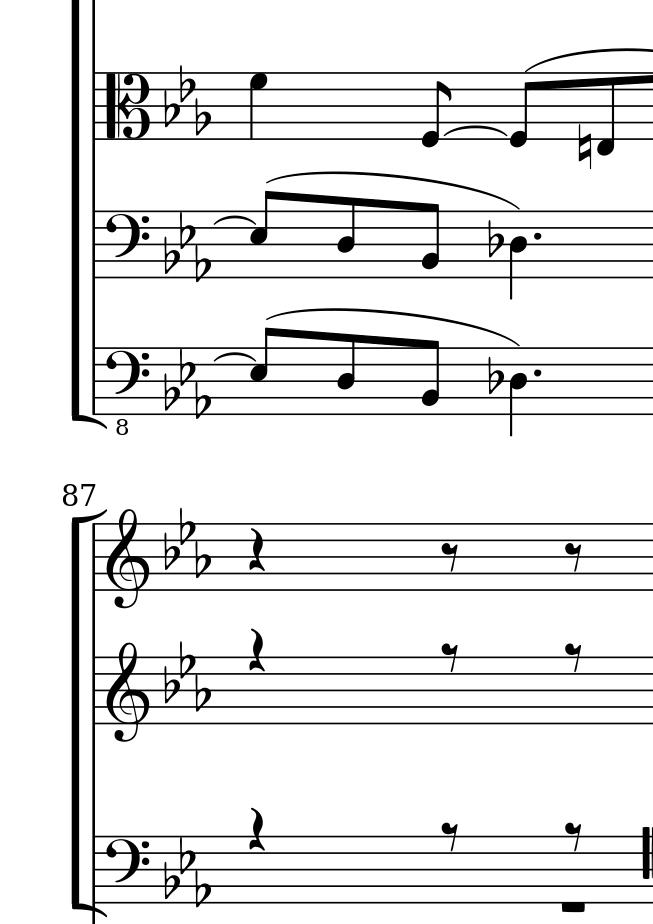4_4: (507, 210, 531, 305), (507, 345, 529, 439)
4_7: (248, 72, 270, 142)
7: (79, 480, 98, 510)
8: (57, 481, 79, 508)
8_-1: (597, 70, 617, 158)
8_0: (422, 70, 454, 147), (508, 69, 536, 151)
8_2: (417, 339, 440, 418), (420, 201, 442, 280)
8_4: (336, 195, 358, 283), (335, 332, 357, 417)
8_5: (249, 326, 280, 416), (249, 189, 280, 279)
Bracke: (68, 509, 107, 919)
Cclef: (101, 71, 157, 141)
E_F: (163, 346, 212, 420), (163, 62, 211, 137), (162, 507, 211, 580), (163, 836, 211, 908), (163, 642, 211, 713), (163, 211, 208, 283)
Fclef: (105, 835, 151, 905), (103, 210, 150, 278)
Flat: (485, 218, 503, 258), (485, 356, 504, 393)
Gclef: (107, 506, 155, 613), (105, 641, 152, 746)
Lower_Fclef: (103, 348, 150, 438)
Natural: (575, 119, 595, 175)
Rests1: (556, 897, 588, 916)
Rests4: (244, 526, 268, 573), (246, 805, 268, 853), (247, 626, 268, 674)
Rests8: (562, 818, 585, 853), (562, 541, 587, 573), (561, 641, 585, 673), (440, 538, 460, 573), (441, 640, 461, 674), (442, 818, 459, 851)
Single_barline: (85, 74, 103, 142), (86, 656, 103, 724), (87, 524, 103, 591), (86, 211, 101, 279), (87, 347, 102, 415), (87, 836, 101, 901)
Slur: (269, 307, 522, 349), (265, 171, 524, 211), (444, 124, 505, 140), (212, 350, 254, 365), (212, 214, 257, 227)
dot: (529, 228, 546, 243), (529, 365, 545, 380)
